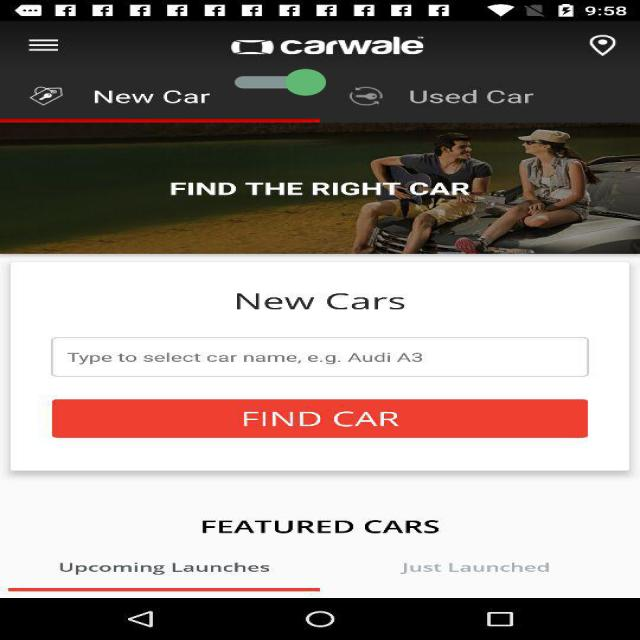social proof: (235, 53, 326, 112)
